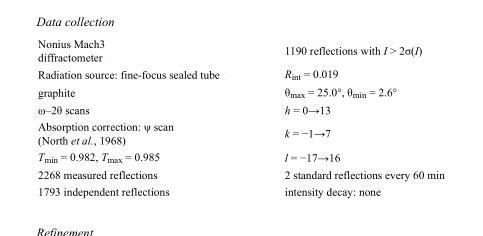table: (37, 36, 443, 197)
table column: (37, 36, 251, 197), (251, 36, 443, 197)
table row: (37, 117, 443, 147), (37, 36, 443, 64), (37, 82, 443, 101), (37, 64, 443, 82), (37, 147, 443, 165), (37, 165, 443, 182), (37, 101, 443, 117), (37, 182, 443, 197)
